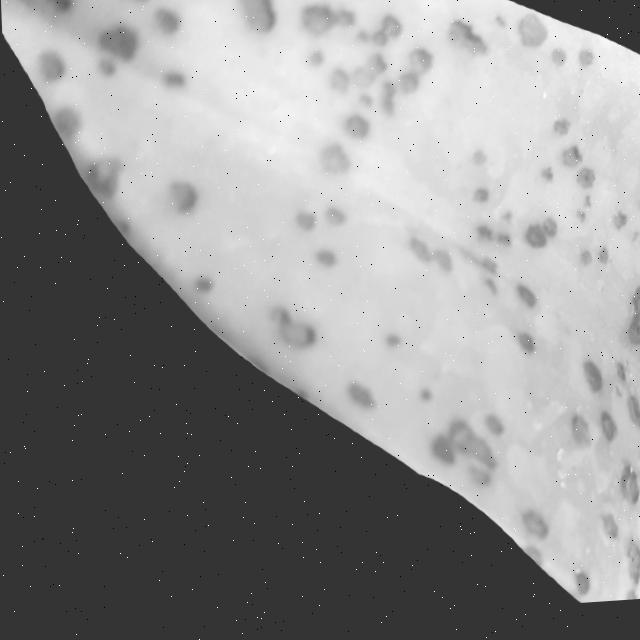mite: (471, 219, 561, 262), (96, 24, 141, 64), (237, 0, 278, 40), (161, 180, 199, 219), (315, 145, 352, 182), (520, 222, 558, 258), (515, 18, 549, 57), (621, 293, 640, 355), (515, 514, 547, 548), (185, 272, 218, 303), (341, 117, 372, 147), (578, 367, 601, 402), (521, 229, 546, 257), (512, 289, 536, 317), (558, 151, 583, 177), (311, 251, 337, 274), (512, 337, 534, 361), (190, 277, 213, 297), (469, 192, 490, 211)
sunburn: (0, 0, 640, 640)
